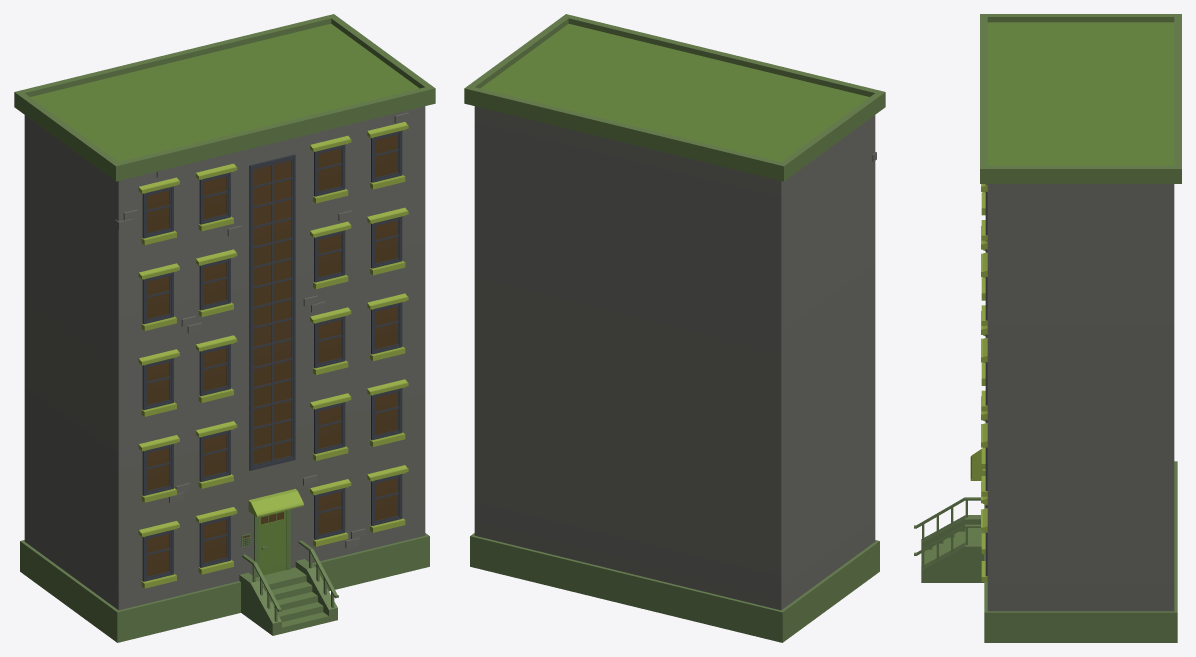
The model's file is House_34.fbx.
3 renders of one model, left to right at view 1: azimuth 30°, elevation 25°; view 2: azimuth 150°, elevation 25°; view 3: azimuth 270°, elevation 25°, orthographic.
Visible parts, largest first — view 1: House_34; view 2: House_34; view 3: House_34.
Part boxes in pixels (x1,y1,x2,y2): House_34: [14, 14, 435, 642]; House_34: [464, 14, 885, 642]; House_34: [914, 14, 1181, 642].
Size of the model in its own units: 10.94 by 15.68 by 8.
